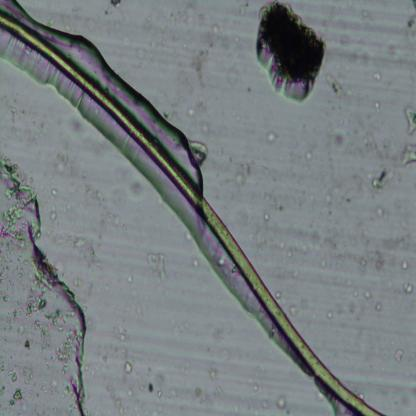Air bubble: (0, 160, 94, 416)
Background material: (250, 3, 328, 104), (31, 312, 79, 367), (0, 199, 31, 282), (82, 180, 127, 233), (24, 266, 52, 316), (184, 131, 215, 167), (73, 236, 99, 271), (190, 50, 213, 88), (145, 250, 171, 282), (100, 382, 124, 416), (348, 248, 388, 268), (124, 173, 148, 201), (324, 70, 346, 100), (327, 127, 350, 155), (181, 7, 207, 31), (51, 150, 73, 178), (367, 165, 392, 189), (20, 118, 42, 145), (63, 114, 87, 136), (383, 232, 412, 250), (358, 127, 376, 154), (400, 104, 416, 134), (235, 157, 251, 184), (170, 319, 192, 335), (400, 143, 416, 165), (8, 306, 21, 331), (112, 323, 128, 343), (262, 129, 278, 146), (305, 229, 322, 245), (120, 356, 135, 374), (182, 102, 196, 121), (374, 201, 388, 220), (233, 1, 246, 21), (7, 102, 22, 119), (7, 389, 22, 405), (211, 325, 227, 339), (23, 367, 36, 384), (276, 392, 287, 412), (404, 11, 416, 29), (191, 384, 204, 400), (135, 301, 145, 321), (212, 385, 226, 398), (69, 274, 83, 287), (322, 190, 334, 205), (401, 280, 413, 294), (50, 203, 58, 224), (166, 12, 178, 26), (180, 361, 191, 376), (6, 369, 16, 385), (135, 47, 144, 64), (260, 398, 272, 410), (0, 287, 10, 301), (208, 368, 217, 383), (372, 70, 383, 82), (297, 241, 308, 253), (249, 381, 261, 392), (375, 300, 384, 314), (184, 229, 192, 244), (362, 288, 372, 300), (24, 337, 32, 352), (124, 385, 134, 396), (99, 352, 110, 362), (324, 309, 334, 320), (304, 150, 314, 161), (260, 209, 269, 221), (108, 0, 126, 6), (318, 256, 326, 269), (51, 186, 61, 196), (400, 258, 408, 270), (192, 258, 200, 270), (154, 372, 162, 384), (60, 387, 68, 399), (289, 305, 299, 314), (373, 102, 381, 113), (285, 247, 293, 258), (46, 223, 53, 235), (144, 383, 154, 391), (274, 291, 282, 300), (9, 126, 17, 135), (276, 204, 284, 213), (409, 0, 416, 10), (280, 238, 286, 249), (156, 389, 164, 397), (127, 275, 134, 284), (0, 363, 7, 371), (0, 386, 6, 394), (2, 335, 8, 342), (54, 407, 57, 414)
Microfibre: (0, 14, 387, 415)
